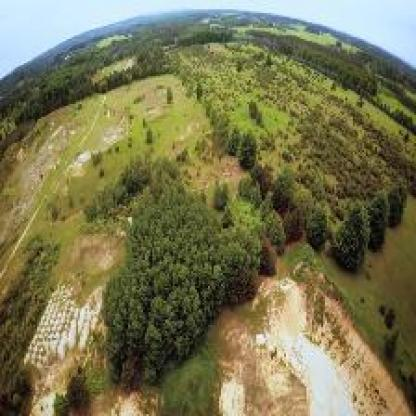other: (249, 276, 369, 408)
